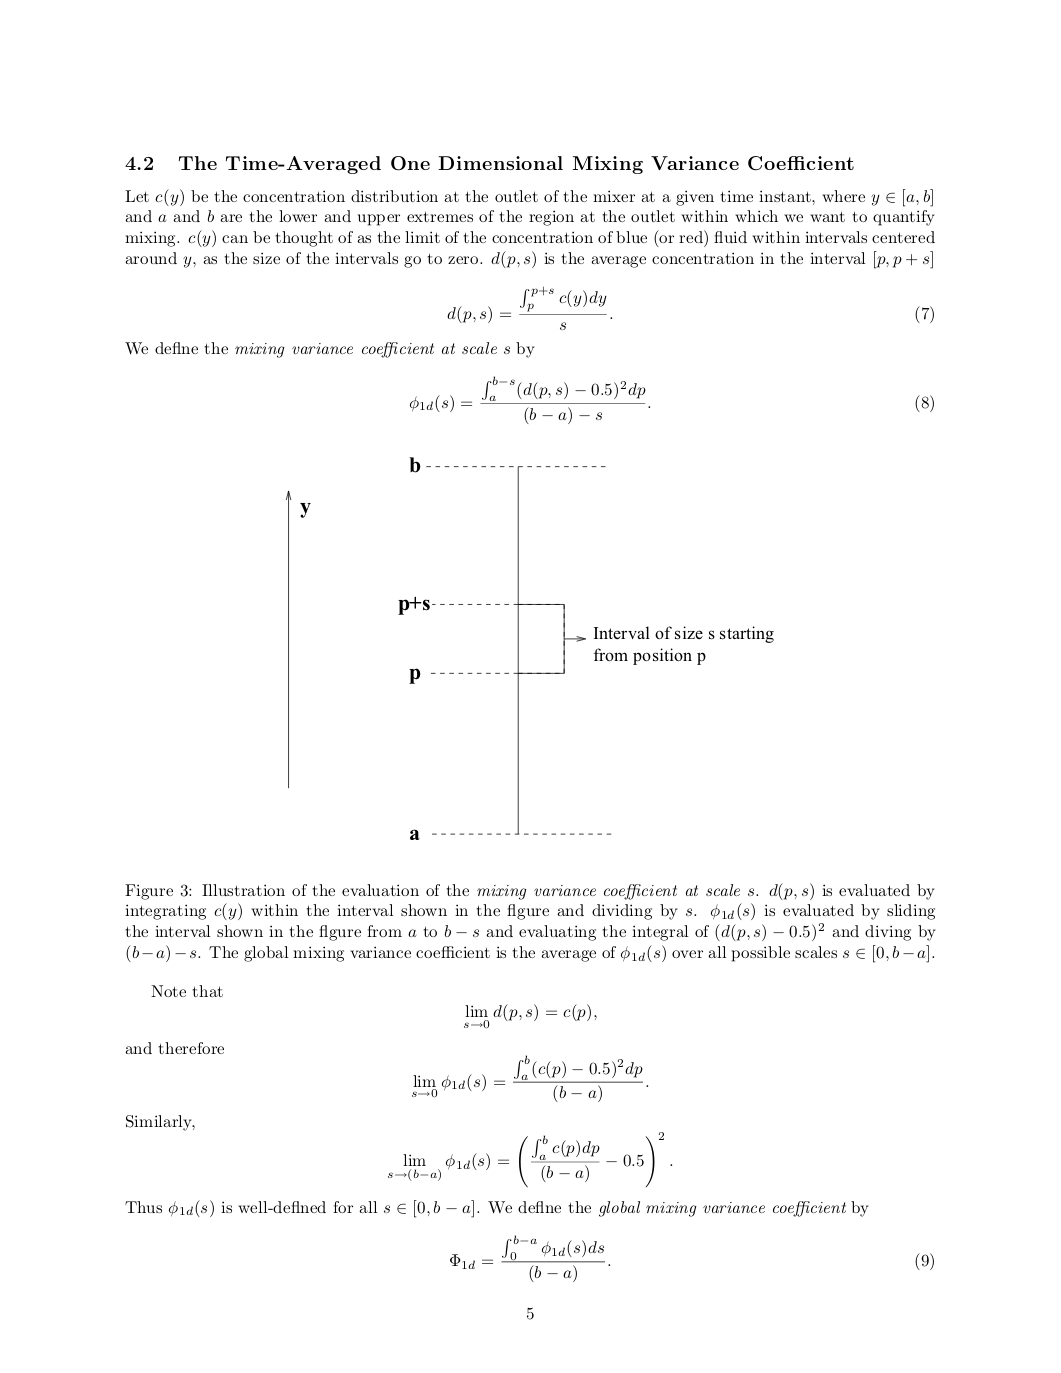figure: (285, 456, 773, 840)
formula: (409, 374, 933, 425), (450, 1234, 933, 1283), (447, 285, 933, 331), (388, 1131, 672, 1188), (412, 1055, 648, 1102), (464, 1003, 596, 1029)
